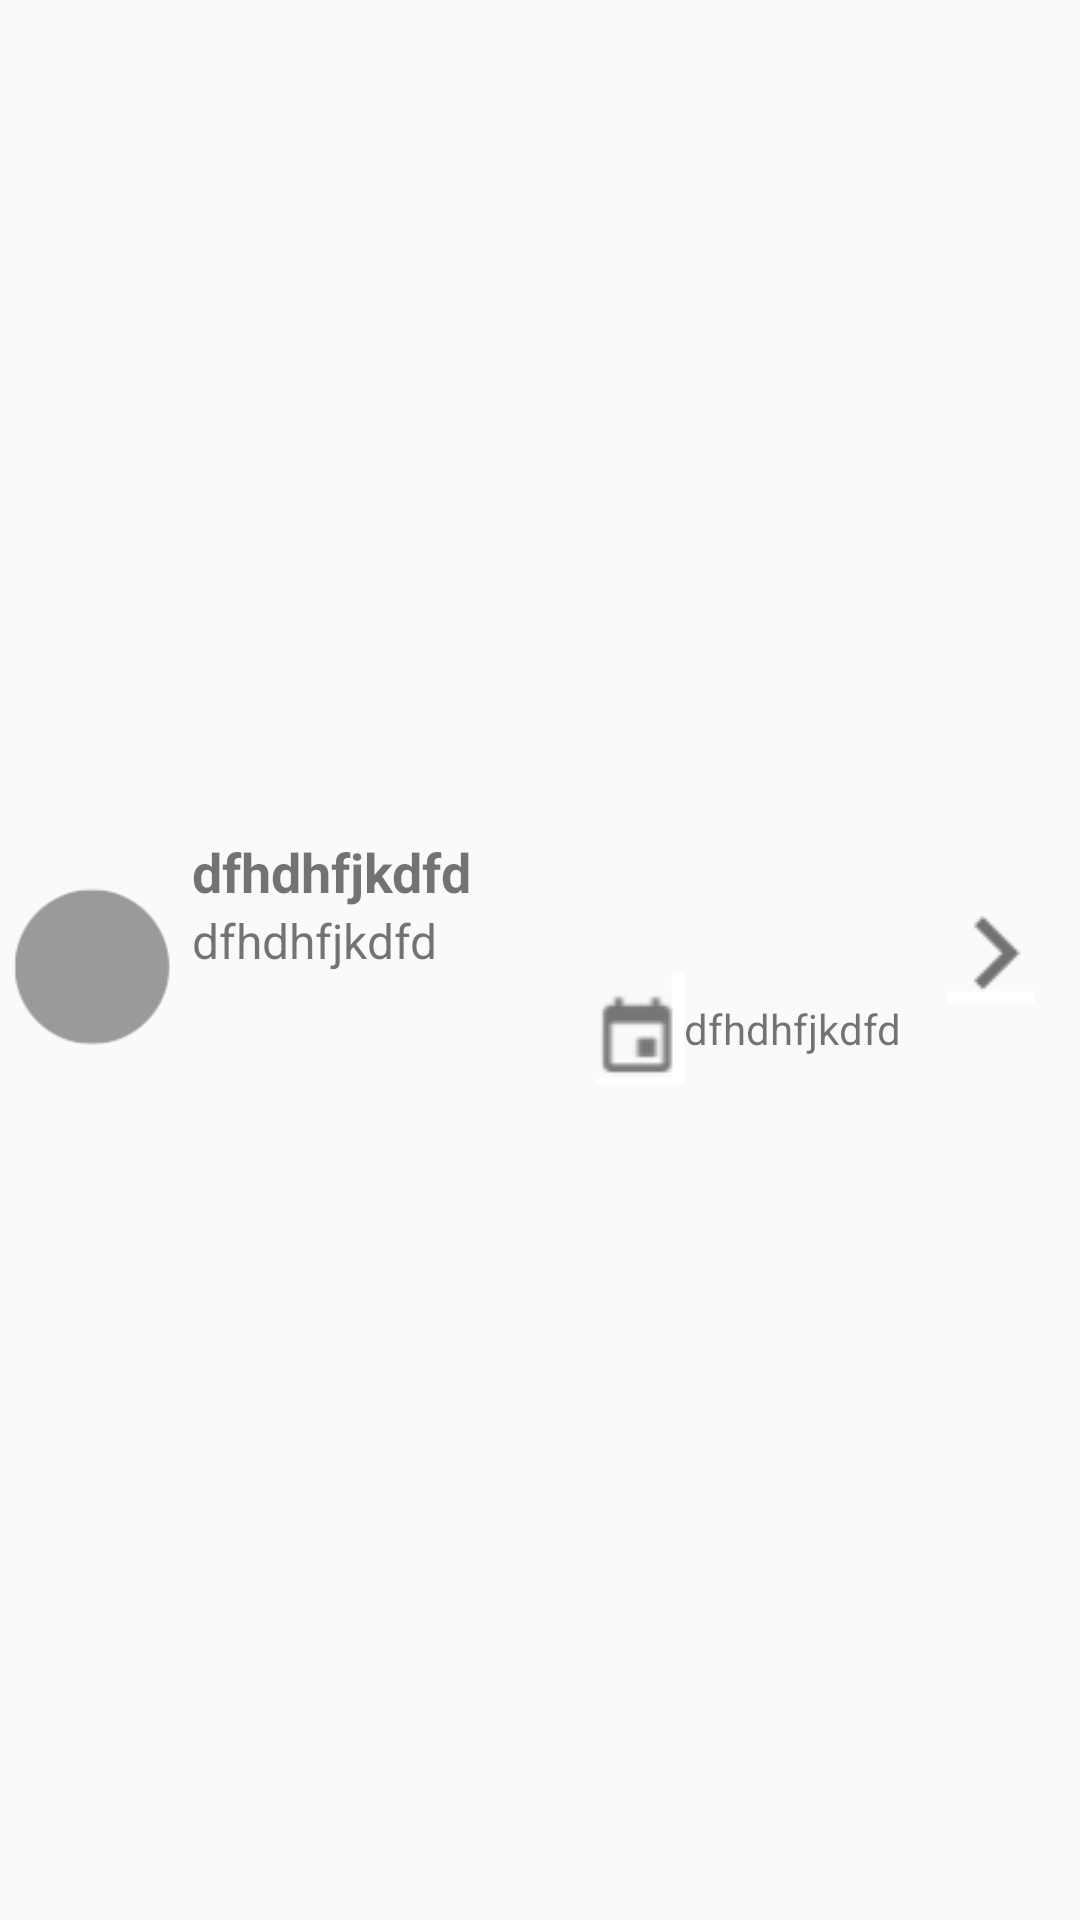

Icon bounding boxes for this 1080 × 1920 phone screenshot, format (x1, y1, x2, y2):
right arrow: (974, 916, 1020, 989)
